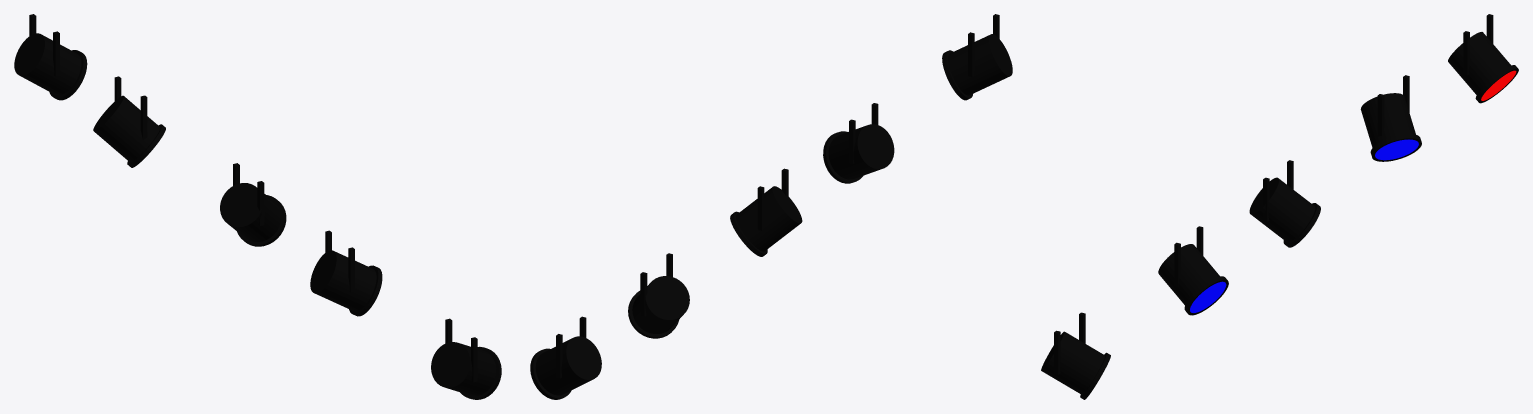
File: Spotlights-transformed.glb
3 views of the same model, side by side, from view 1: azimuth 30°, elevation 25°; view 2: azimuth 150°, elevation 25°; view 3: azimuth 330°, elevation 25° (orthographic). The views are drawn at different scales.
Parts seen in each view (by area): view 1: Cylinder.002, Cylinder.045, Cylinder.044, Cylinder.043, Cylinder.046; view 2: Cylinder.002, Cylinder.045, Cylinder.044, Cylinder.043, Cylinder.046; view 3: Cylinder.045, Cylinder.046, Cylinder.043, Cylinder.002, Cylinder.044.
Part boxes in pixels (x1,y1,x2,y2): Cylinder.002: [14, 33, 87, 100]; Cylinder.045: [310, 250, 382, 316]; Cylinder.044: [431, 342, 501, 399]; Cylinder.043: [220, 183, 286, 246]; Cylinder.046: [93, 95, 165, 167]; Cylinder.002: [530, 336, 601, 399]; Cylinder.045: [823, 124, 894, 183]; Cylinder.044: [942, 34, 1012, 100]; Cylinder.043: [730, 186, 802, 256]; Cylinder.046: [628, 276, 689, 338]; Cylinder.045: [1158, 244, 1228, 315]; Cylinder.046: [1360, 93, 1421, 161]; Cylinder.043: [1249, 177, 1320, 247]; Cylinder.002: [1448, 32, 1518, 103]; Cylinder.044: [1041, 331, 1110, 399].
Bounding box in the file's own units: 22.88 × 23.69 × 251.
